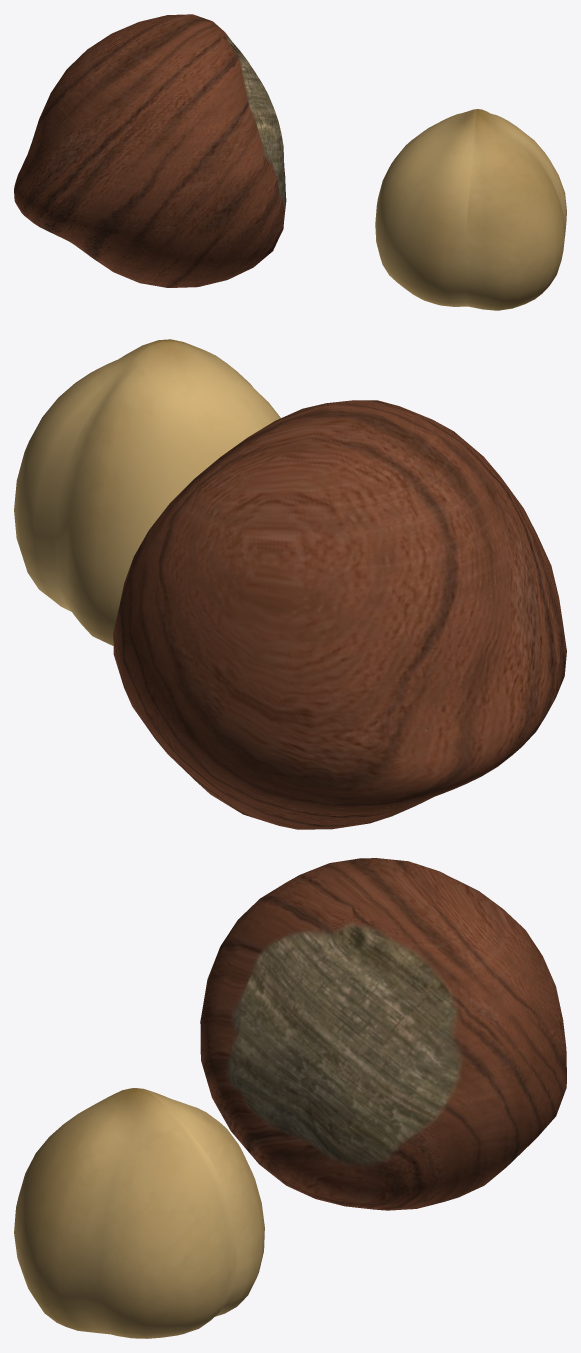
File: newhazelnuts.glb
The picture shows the model from 3 angles, top to bottom: view 1: azimuth 30°, elevation 25°; view 2: azimuth 150°, elevation 25°; view 3: azimuth 270°, elevation 25°; orthographic projection. The views are drawn at different scales.
Visible parts, largest first — view 1: hazelnutshell_sx_low.002, hazelnuts_whole_low.002; view 2: hazelnutshell_sx_low.002, hazelnuts_whole_low.002; view 3: hazelnutshell_sx_low.002, hazelnuts_whole_low.002.
Boxes of the visible parts, x1,y1,x2,y2 form: hazelnutshell_sx_low.002: [14, 14, 286, 287]; hazelnuts_whole_low.002: [375, 109, 566, 310]; hazelnutshell_sx_low.002: [113, 400, 566, 829]; hazelnuts_whole_low.002: [14, 339, 280, 645]; hazelnutshell_sx_low.002: [200, 858, 566, 1210]; hazelnuts_whole_low.002: [14, 1088, 264, 1338].
Bounding box in the file's own units: 0.3886 × 0.2161 × 0.3376.
1 material, 1 textured.
